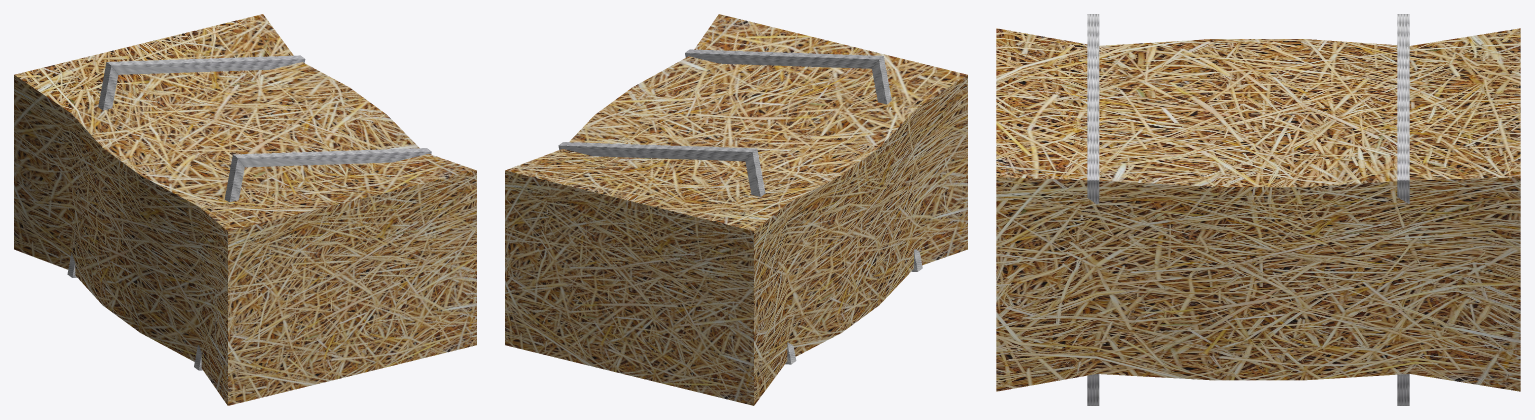
Rendered from HayBale.FBX.
The picture shows the model from 3 angles, left to right: view 1: azimuth 30°, elevation 25°; view 2: azimuth 150°, elevation 25°; view 3: azimuth 270°, elevation 25°; orthographic projection. The views are drawn at different scales.
Visible parts, largest first — view 1: Box001, Tube001, Tube002; view 2: Box001, Tube001, Tube002; view 3: Box001, Tube002, Tube001.
Boxes of the visible parts, box(x1,y1,x2,y2) form: Box001: box(14, 14, 476, 405); Tube001: box(67, 55, 305, 277); Tube002: box(194, 148, 431, 370); Box001: box(505, 14, 967, 405); Tube001: box(558, 142, 796, 364); Tube002: box(685, 49, 922, 271); Box001: box(996, 28, 1520, 391); Tube002: box(1087, 14, 1099, 405); Tube001: box(1397, 14, 1409, 405).
Bounding box in the file's own units: 15.67 × 14.66 × 23.3.
Materials: 3 (3 with a texture image).
